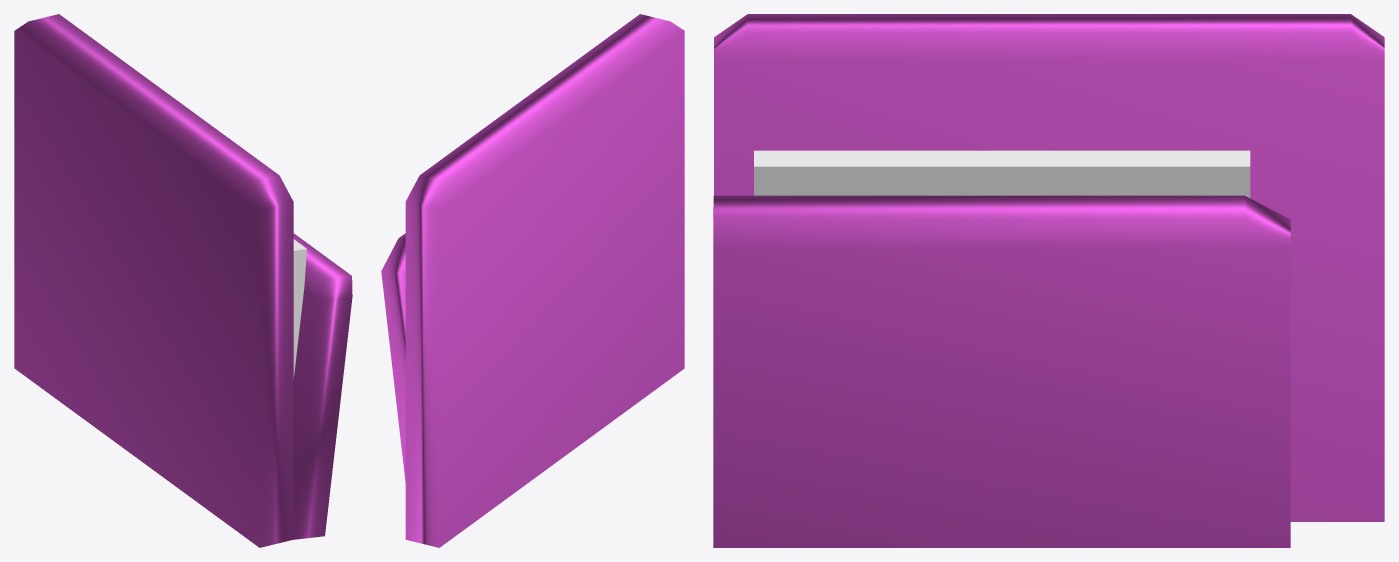
Rendered from dossier.glb.
3 views of the same model, side by side, from view 1: azimuth 30°, elevation 25°; view 2: azimuth 150°, elevation 25°; view 3: azimuth 270°, elevation 25° (orthographic). The views are drawn at different scales.
Visible parts, largest first — view 1: Cube, Cube.001, Cube.002; view 2: Cube, Cube.001; view 3: Cube.001, Cube, Cube.002.
Boxes of the visible parts, box(x1,y1,x2,y2) form: Cube: box(14, 14, 293, 547); Cube.001: box(291, 233, 352, 539); Cube.002: box(293, 239, 306, 378); Cube: box(405, 14, 684, 547); Cube.001: box(381, 233, 405, 481); Cube.001: box(713, 195, 1290, 547); Cube: box(714, 14, 1384, 521); Cube.002: box(754, 150, 1250, 198).
Bounding box in the file's own units: 0.5449 × 2.02 × 2.5.
